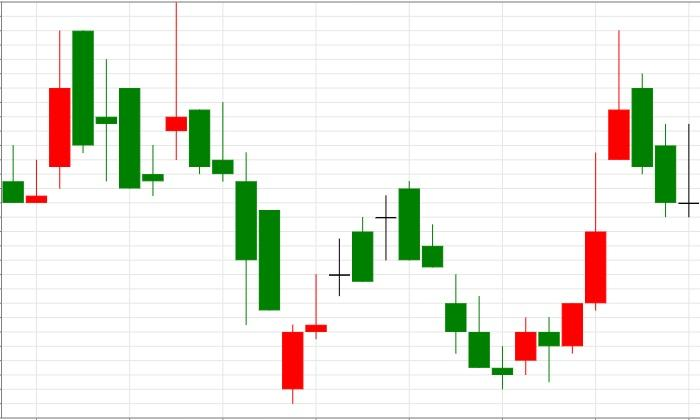morning_star_rise: (398, 180, 536, 389)
